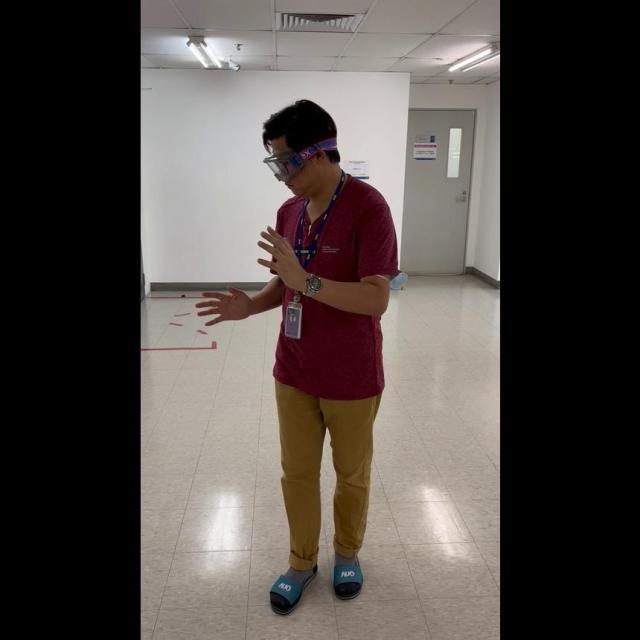bare_hand: (252, 221, 311, 286), (193, 283, 243, 325)
